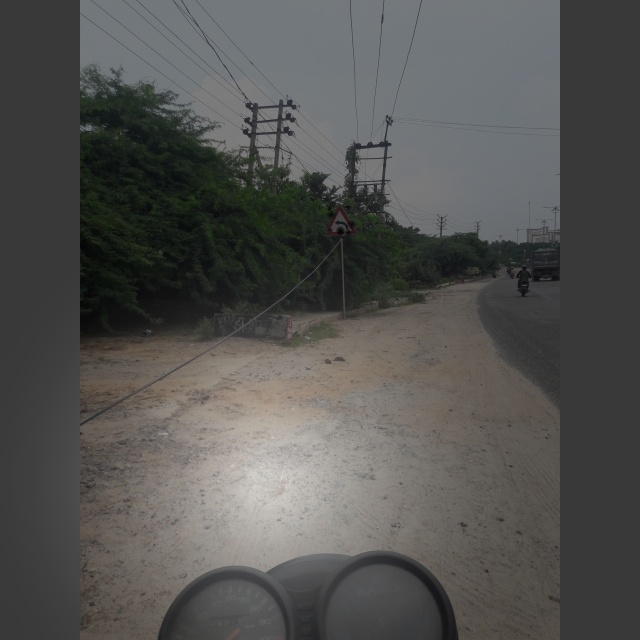Left_Hand_Curve: (325, 206, 357, 238)
